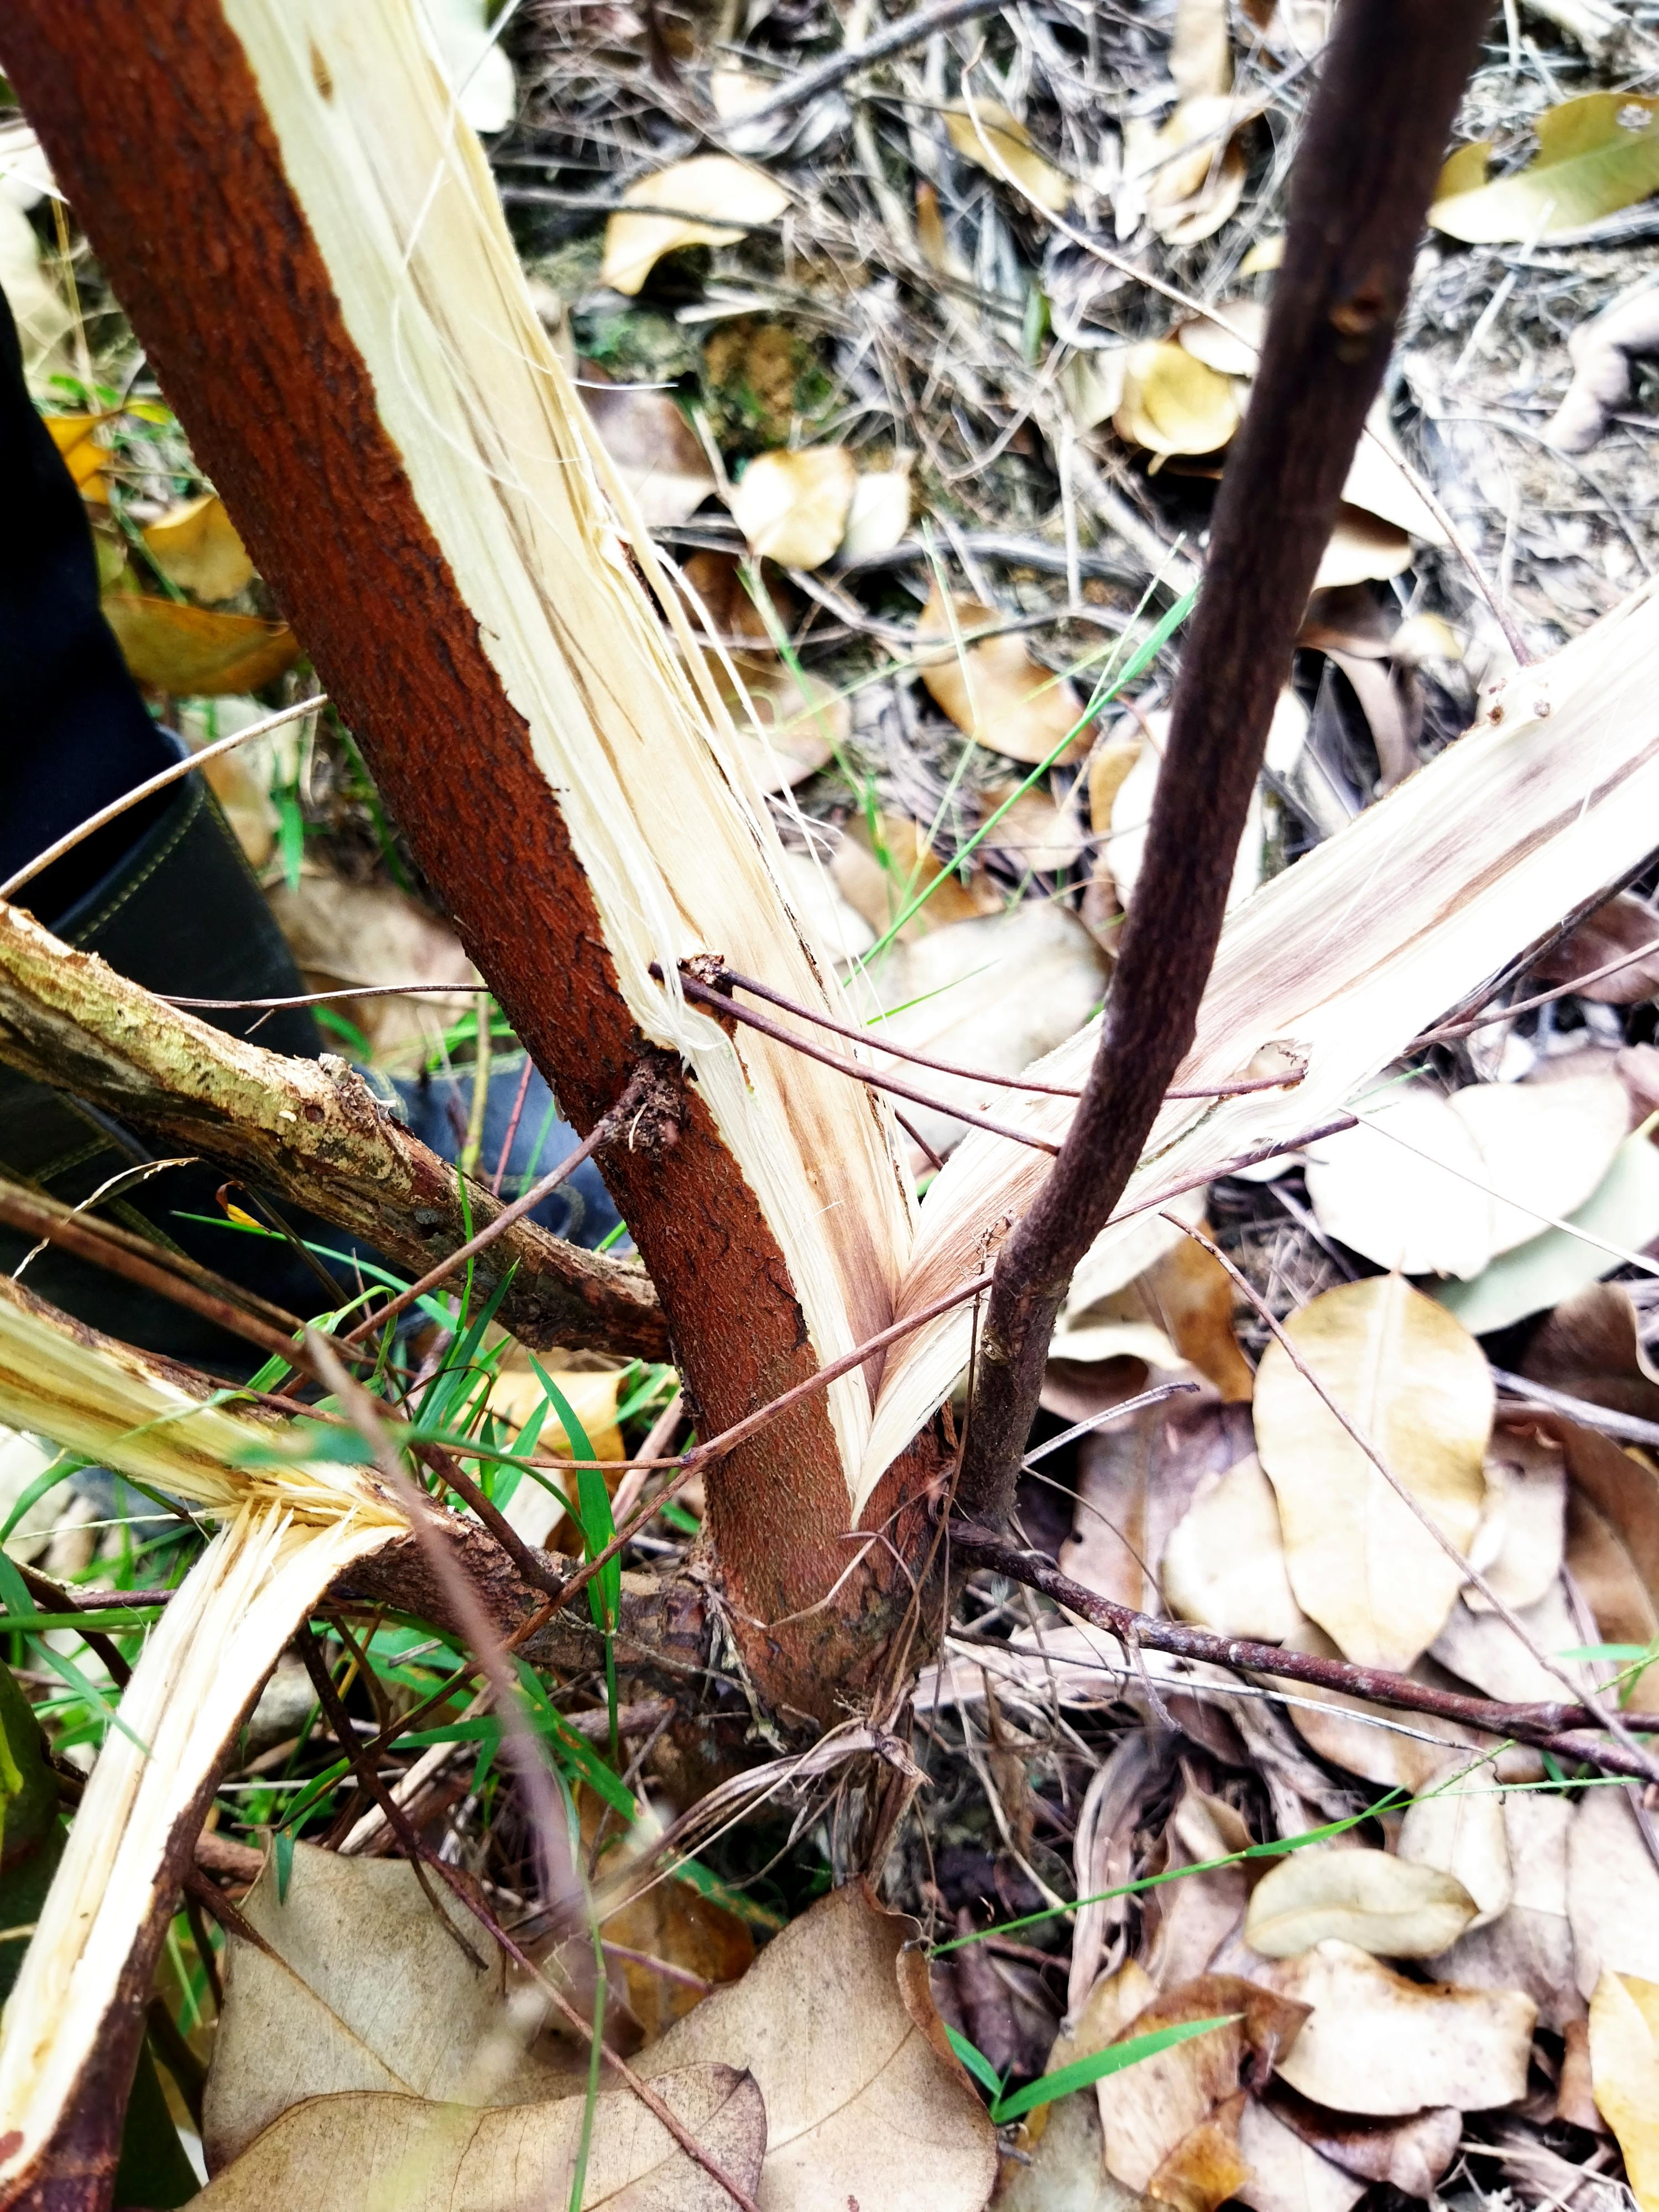Ralstonia: (775, 1047, 1058, 1407)
